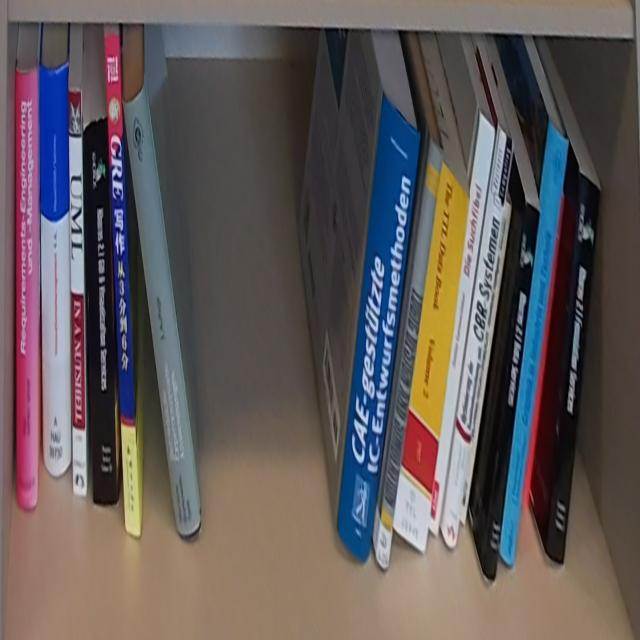Book Spine: (337, 92, 420, 563), (122, 87, 201, 540), (440, 125, 514, 550), (500, 122, 569, 565), (394, 162, 470, 555), (376, 139, 444, 569), (429, 113, 496, 540), (483, 201, 541, 583), (546, 172, 601, 568), (103, 36, 141, 538), (460, 202, 512, 528), (84, 119, 118, 507), (41, 62, 71, 476), (15, 71, 36, 515), (69, 87, 87, 492)
